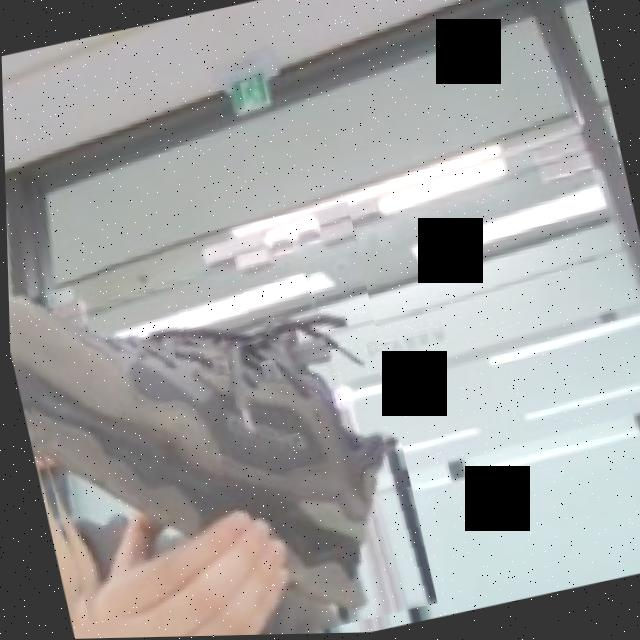shoe: (5, 202, 435, 640)
